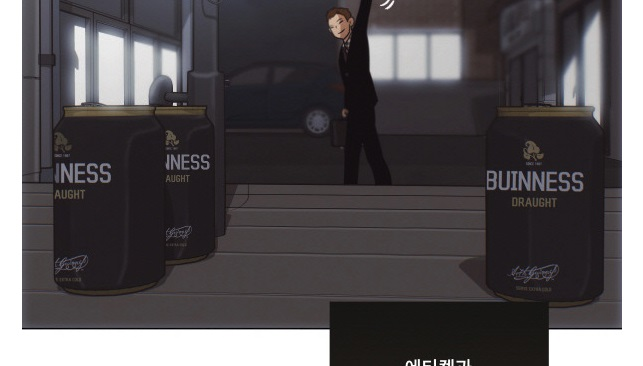beer: (481, 98, 608, 308), (45, 101, 164, 298)
can: (479, 96, 611, 309), (42, 97, 166, 298)
